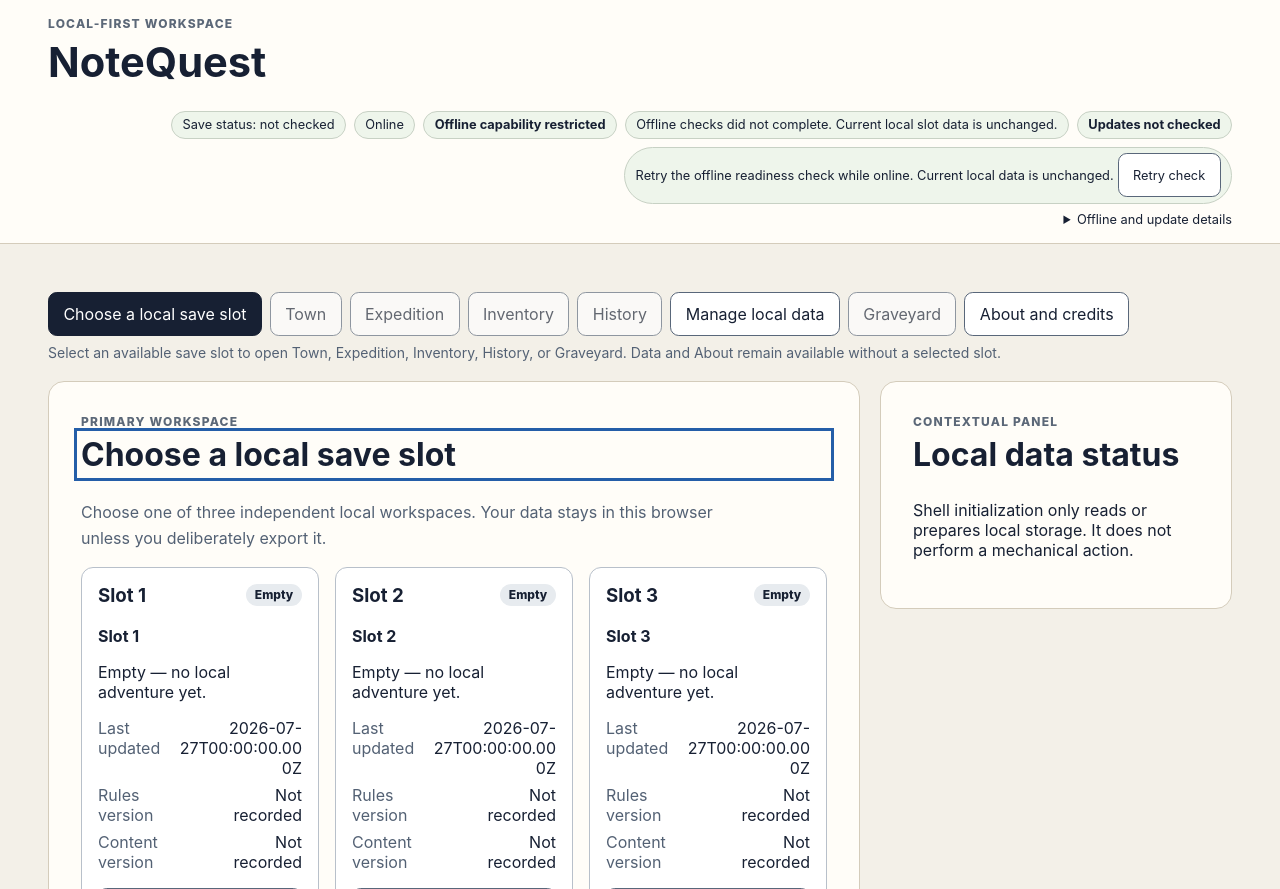
Test: App shell › retries first-install registration once and verifies the new controller without mutation
The image size is (1280, 889).
Click the button "Retry check" at (1169, 175), box [1118,153,1221,197]
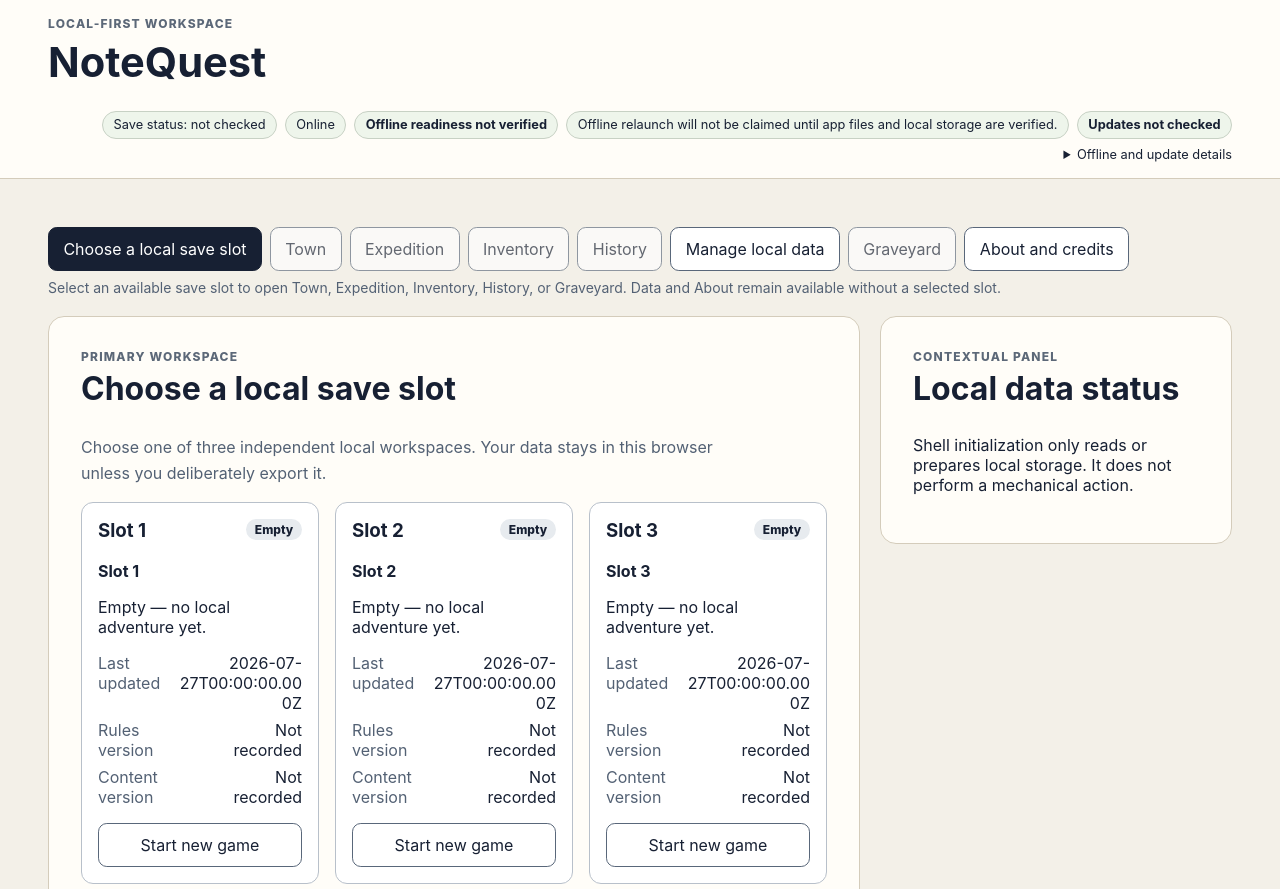
Check: the text "Offline readiness not verified" is shown, box [354,111,558,139]
